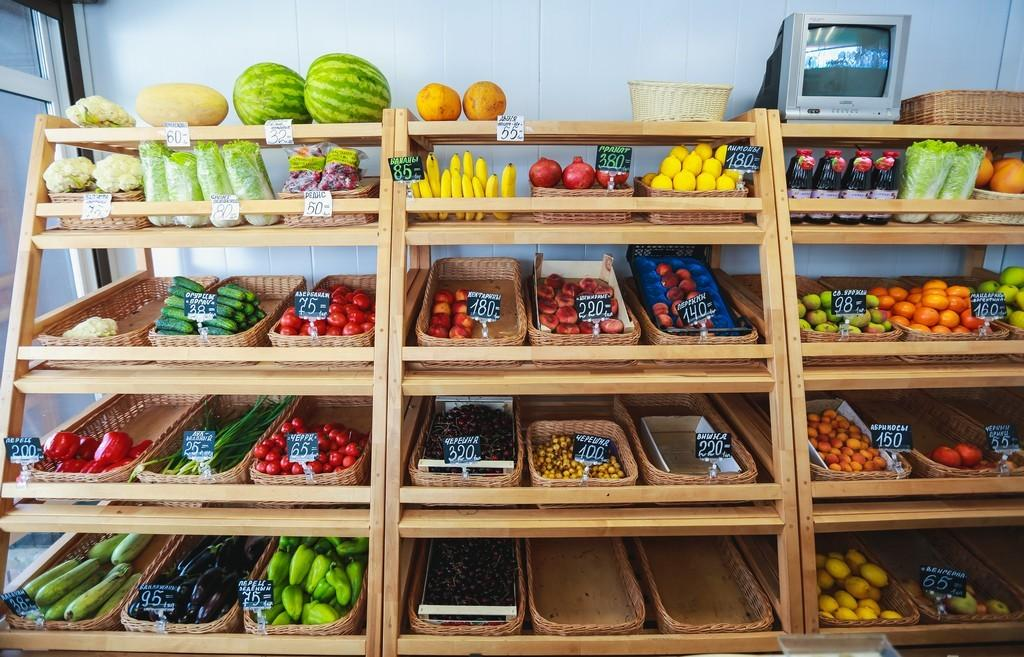banana: (406, 146, 529, 227)
cucumber: (153, 264, 266, 339)
eggplant: (148, 533, 249, 622)
green apple: (797, 285, 891, 341)
lemon: (814, 548, 904, 621), (643, 138, 751, 198)
mandarin: (878, 276, 989, 335)
melon: (410, 71, 509, 123), (137, 83, 230, 129)
pomegranate: (530, 160, 629, 189)
sweet pepper: (263, 535, 368, 622), (40, 421, 155, 480)
tomato: (258, 411, 369, 478), (273, 278, 383, 344)
watermelon: (232, 53, 392, 124)
